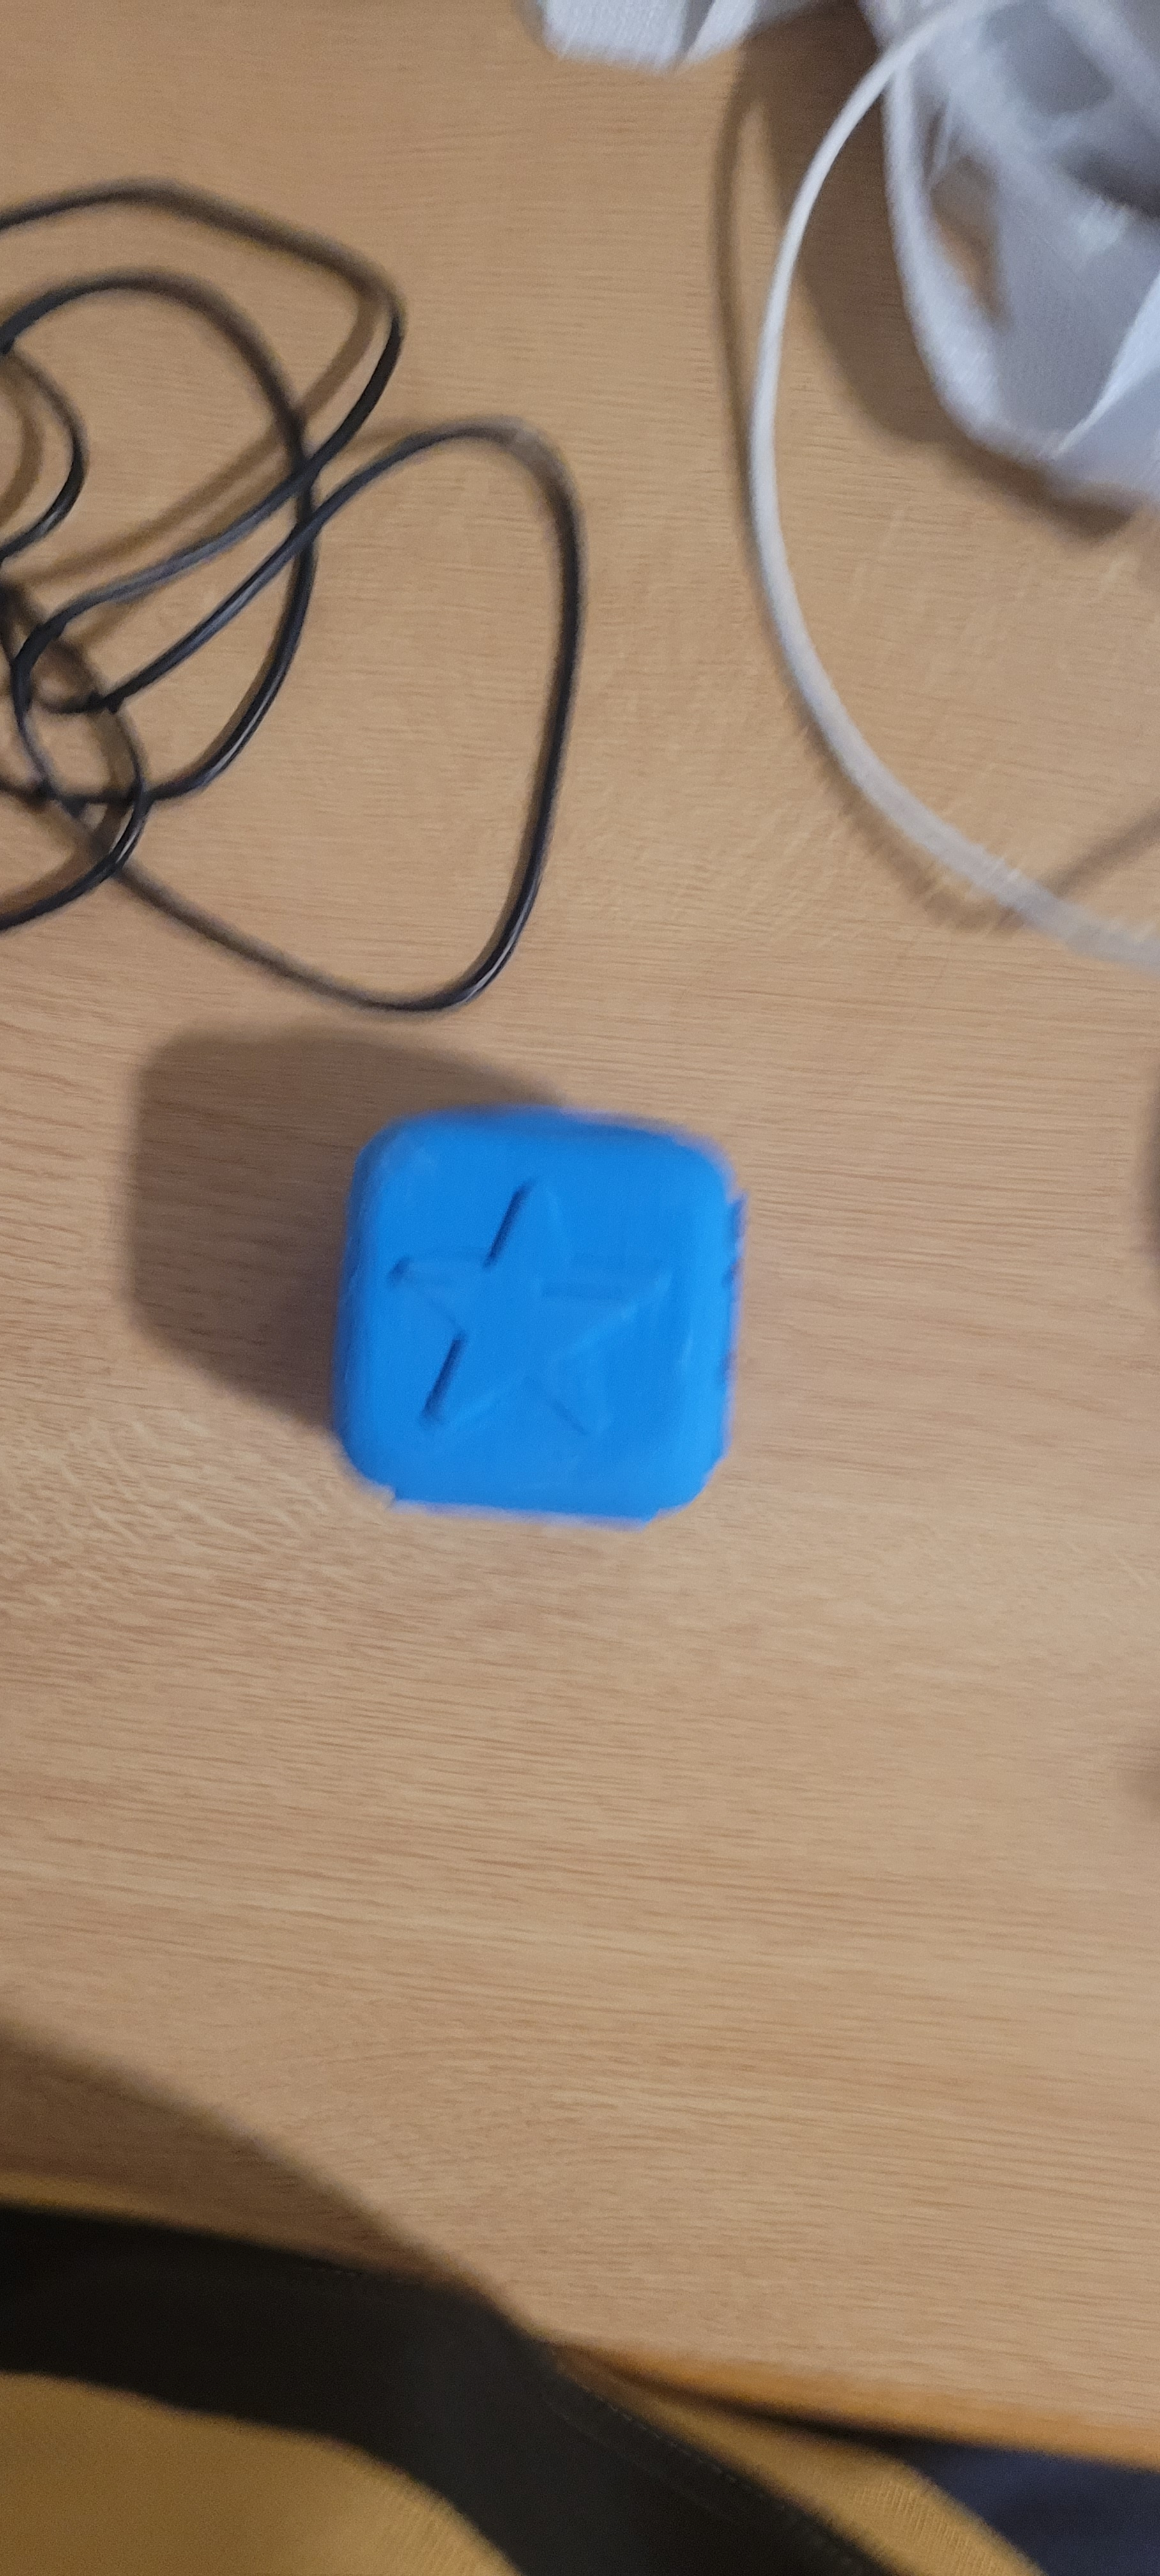Star: (373, 1152, 705, 1487)
